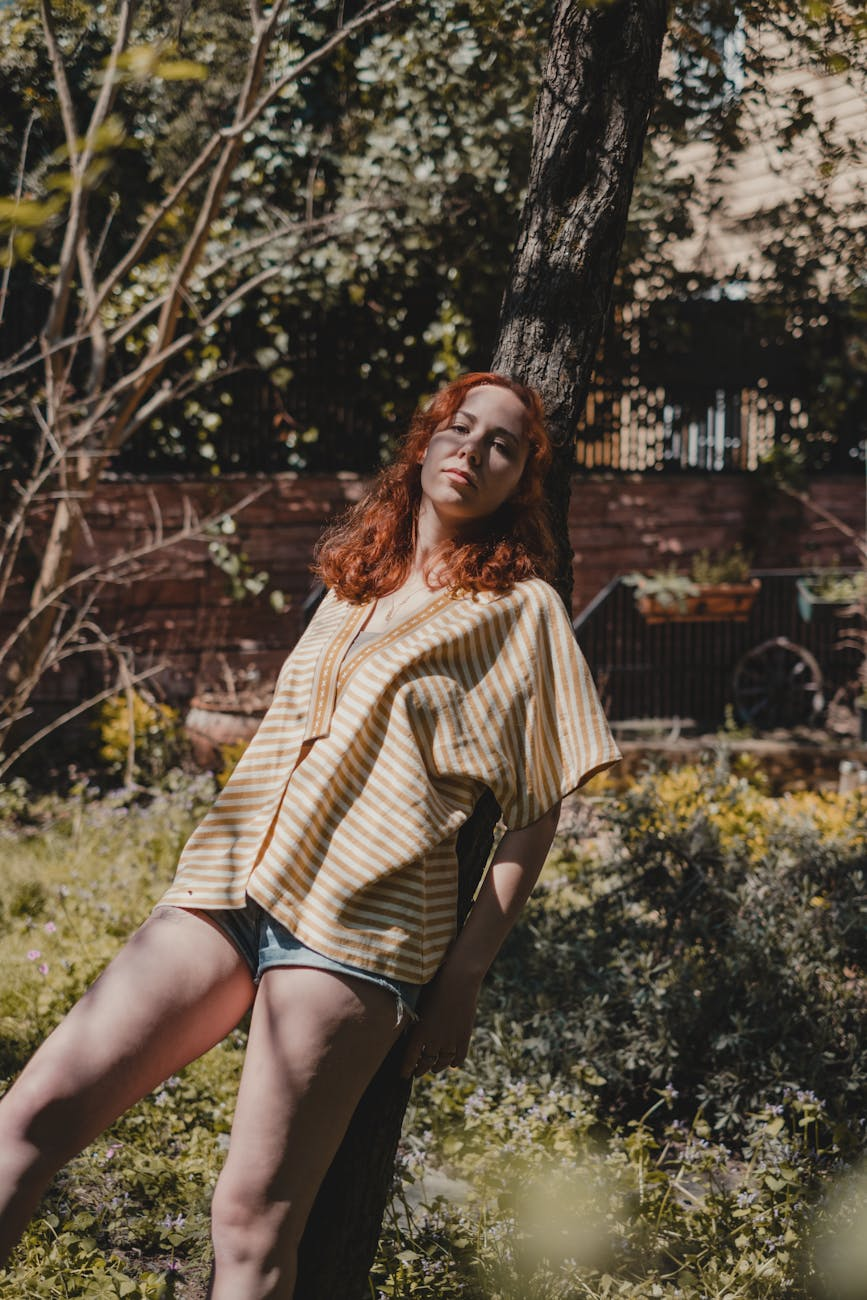shorts: (155, 862, 433, 1021)
